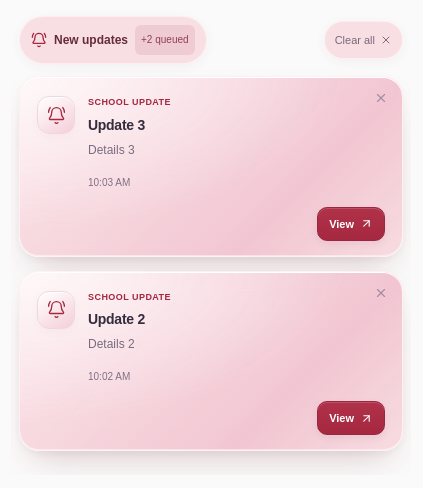
shows at most two previews and promotes the next queued update on dismiss
Expected: the heading "Update 3" is shown, [88,116,145,132]
Expected: the text "Update 1" is not shown
Click the button named "Dismiss preview: Update 3" at (381,98), box [366,83,396,113]
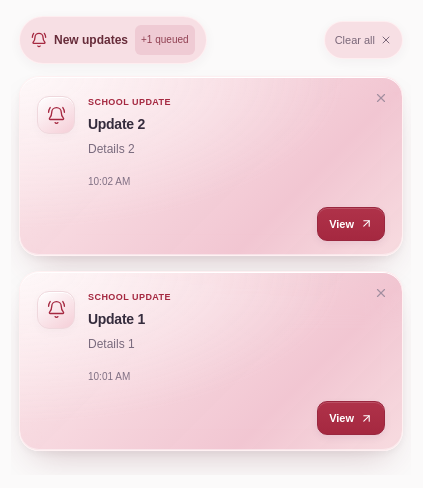
Now the heading "Update 3" is gone
Now the heading "Update 1" is shown, box [88,311,145,327]
